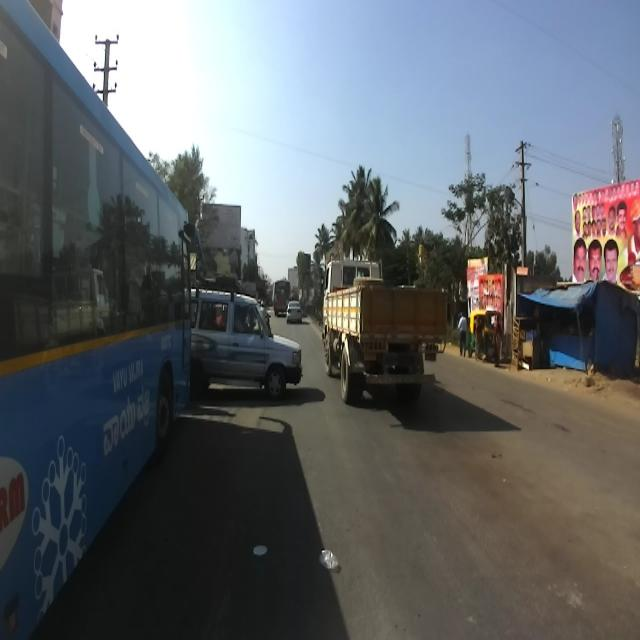Car: (286, 298, 302, 324)
Car_Toyota: (191, 276, 303, 398)
autorickshaw: (468, 309, 502, 360)
bus: (0, 0, 202, 639), (272, 278, 292, 318)
truck: (320, 256, 451, 406)
